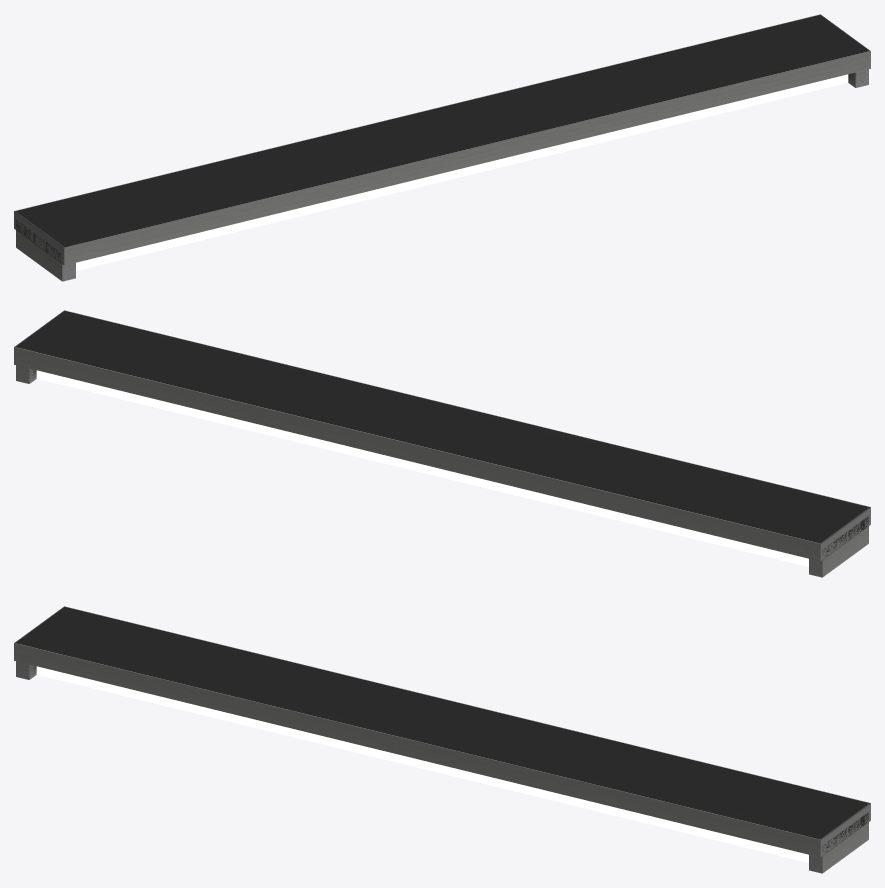
Rendered from fluorescent.glb.
3 views of the same model, one above another, from view 1: azimuth 30°, elevation 25°; view 2: azimuth 150°, elevation 25°; view 3: azimuth 330°, elevation 25° (orthographic).
Visible parts, largest first — view 1: Fluorescent; view 2: Fluorescent; view 3: Fluorescent.
Part boxes in pixels (x1,y1,x2,y2): Fluorescent: (14, 14, 870, 281); Fluorescent: (14, 310, 870, 577); Fluorescent: (14, 606, 870, 873).
Bounding box in the file's own units: 2.4 × 0.0999 × 0.2599.
2 materials, 2 textured.
